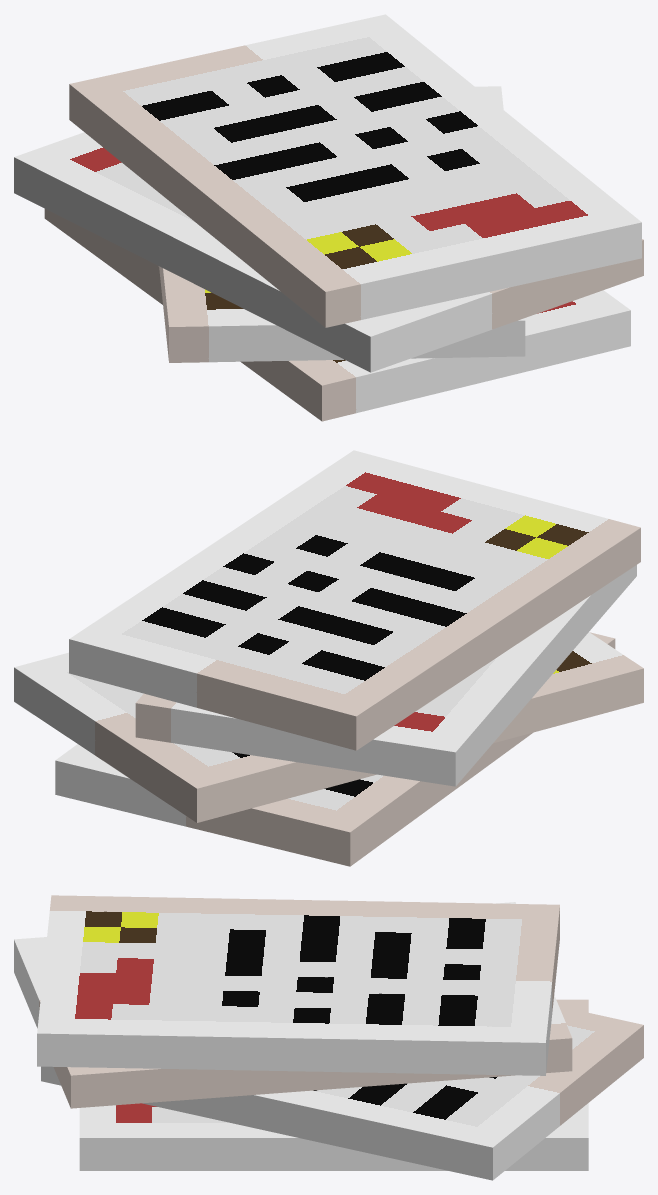
Rendered from bumaga_item.fbx.
3 renders of one model, top to bottom at view 1: azimuth 30°, elevation 25°; view 2: azimuth 150°, elevation 25°; view 3: azimuth 270°, elevation 25°, orthographic. The views are drawn at different scales.
Visible parts, largest first — view 1: 9009c7a2-4b4e-7ee2-eb50-d2b9b4bf560f, 7e1b5b2b-36ba-e199-bd0b-7e450aeb2d7b, 14ee5732-4cb9-4ec8-4c96-71eefc87950d, 1358dd2b-743c-4670-5a4c-f29df595660e; view 2: 9009c7a2-4b4e-7ee2-eb50-d2b9b4bf560f, 1358dd2b-743c-4670-5a4c-f29df595660e, 7e1b5b2b-36ba-e199-bd0b-7e450aeb2d7b, 14ee5732-4cb9-4ec8-4c96-71eefc87950d; view 3: 9009c7a2-4b4e-7ee2-eb50-d2b9b4bf560f, 1358dd2b-743c-4670-5a4c-f29df595660e, 14ee5732-4cb9-4ec8-4c96-71eefc87950d, 7e1b5b2b-36ba-e199-bd0b-7e450aeb2d7b.
Boxes of the visible parts, left/top/right/bottom form: 9009c7a2-4b4e-7ee2-eb50-d2b9b4bf560f: left=69, top=14, right=641, bottom=327; 7e1b5b2b-36ba-e199-bd0b-7e450aeb2d7b: left=14, top=132, right=643, bottom=372; 14ee5732-4cb9-4ec8-4c96-71eefc87950d: left=44, top=209, right=630, bottom=421; 1358dd2b-743c-4670-5a4c-f29df595660e: left=159, top=86, right=525, bottom=362; 9009c7a2-4b4e-7ee2-eb50-d2b9b4bf560f: left=69, top=450, right=640, bottom=750; 1358dd2b-743c-4670-5a4c-f29df595660e: left=14, top=632, right=643, bottom=822; 7e1b5b2b-36ba-e199-bd0b-7e450aeb2d7b: left=135, top=565, right=636, bottom=786; 14ee5732-4cb9-4ec8-4c96-71eefc87950d: left=55, top=632, right=615, bottom=866; 9009c7a2-4b4e-7ee2-eb50-d2b9b4bf560f: left=37, top=895, right=559, bottom=1075; 1358dd2b-743c-4670-5a4c-f29df595660e: left=41, top=1006, right=643, bottom=1180; 14ee5732-4cb9-4ec8-4c96-71eefc87950d: left=79, top=999, right=588, bottom=1170; 7e1b5b2b-36ba-e199-bd0b-7e450aeb2d7b: left=14, top=902, right=572, bottom=1108.
Bounding box in the file's own units: 90.3 × 25 × 108.
1 material, 1 textured.
